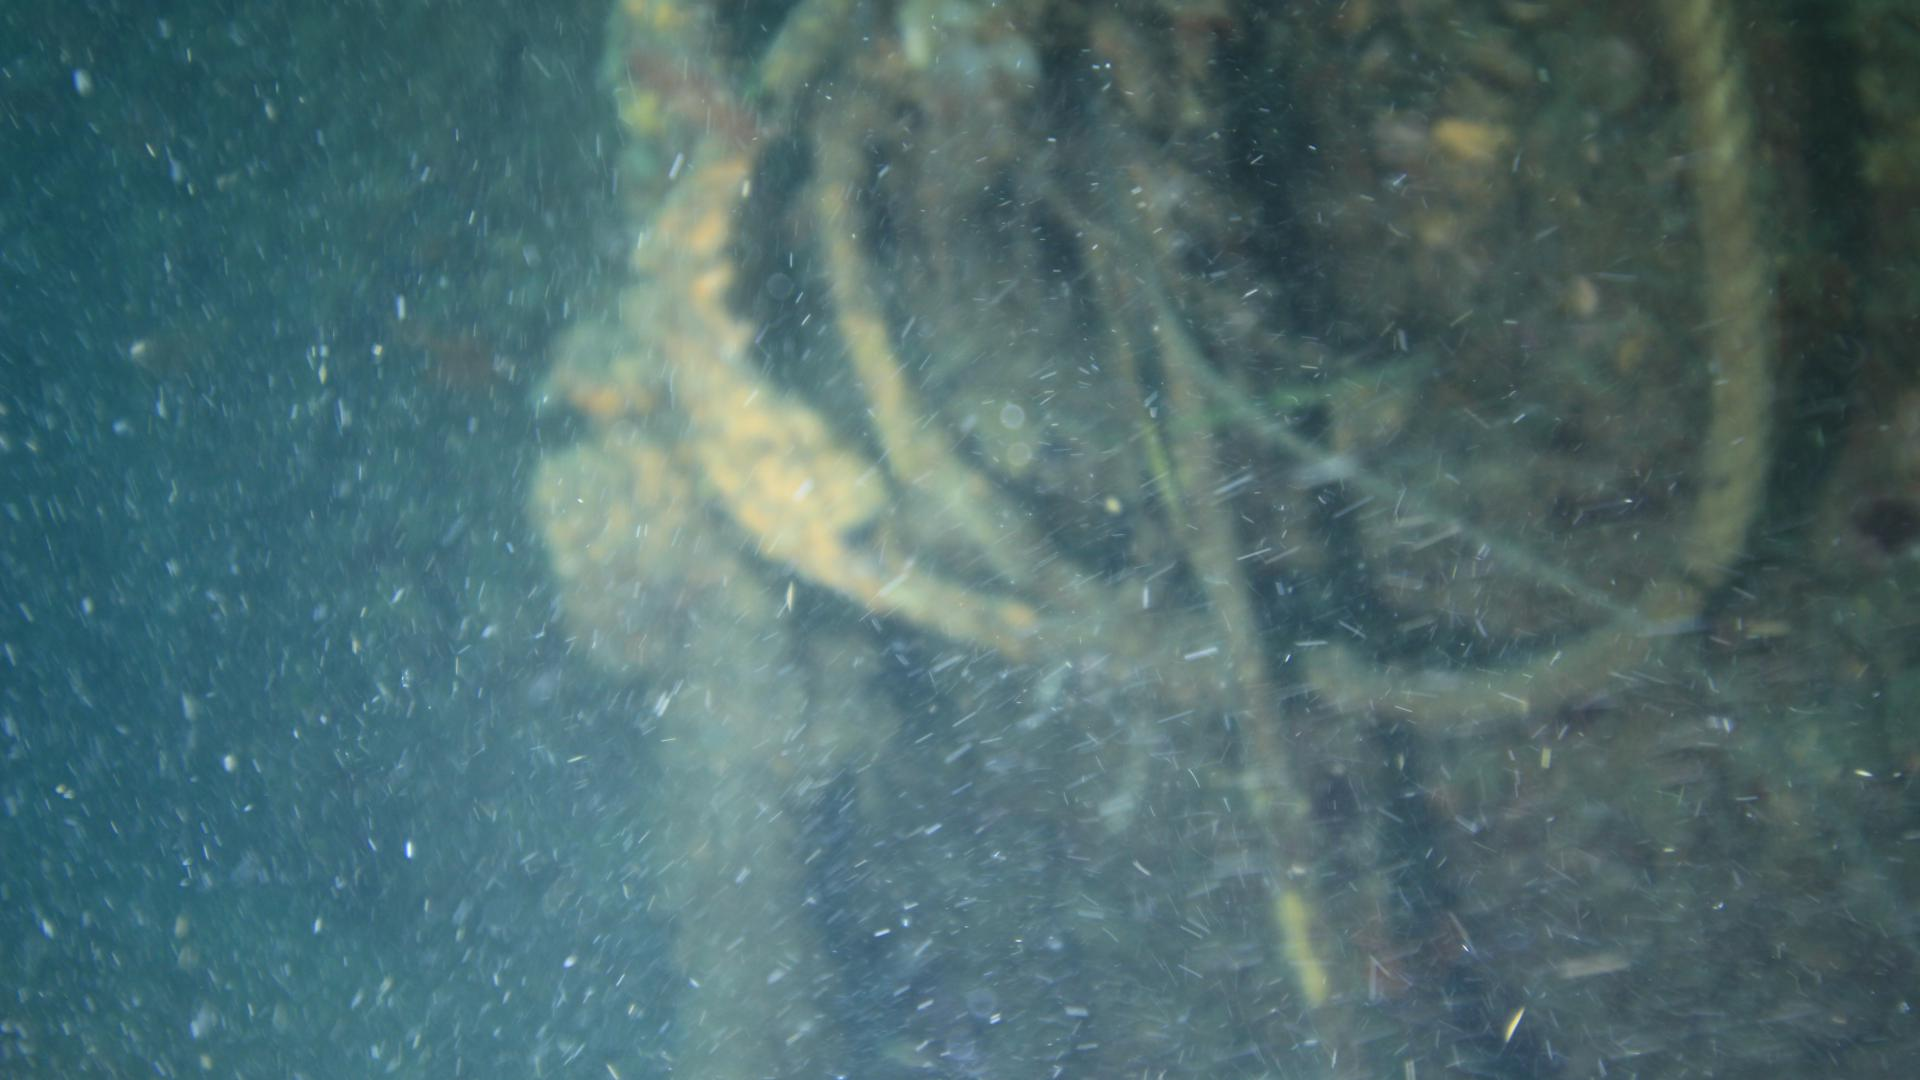bundle of ropes: (651, 3, 1768, 735)
